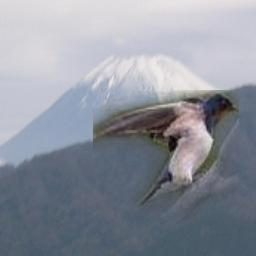Swallow: (93, 90, 239, 220)
